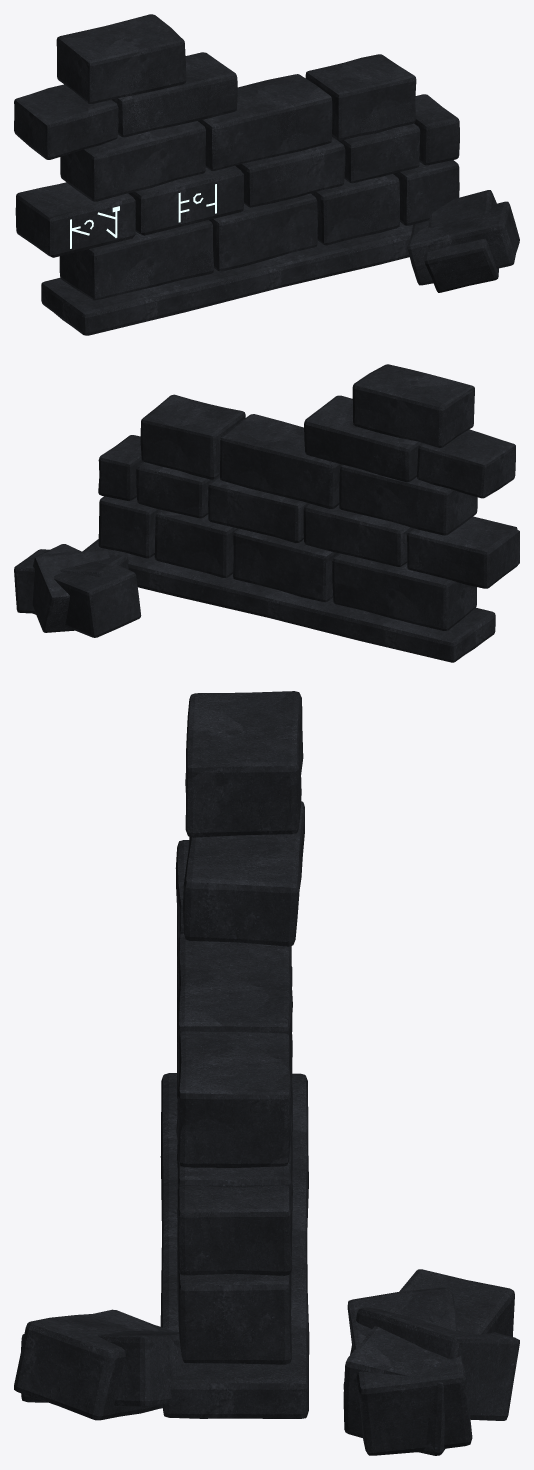
The model's file is Ruina_Muro.fbx.
3 renders of one model, top to bottom at view 1: azimuth 30°, elevation 25°; view 2: azimuth 150°, elevation 25°; view 3: azimuth 270°, elevation 25°, orthographic. The views are drawn at different scales.
Visible parts, largest first — view 1: Ruina_Muro_LOD0; view 2: Ruina_Muro_LOD0; view 3: Ruina_Muro_LOD0.
Boxes of the visible parts, bbox=[...] form: Ruina_Muro_LOD0: bbox=[14, 14, 519, 335]; Ruina_Muro_LOD0: bbox=[14, 364, 519, 662]; Ruina_Muro_LOD0: bbox=[14, 691, 519, 1455].
Size of what is drawn, in the model's own units: 7.27 by 4.38 by 4.37.
